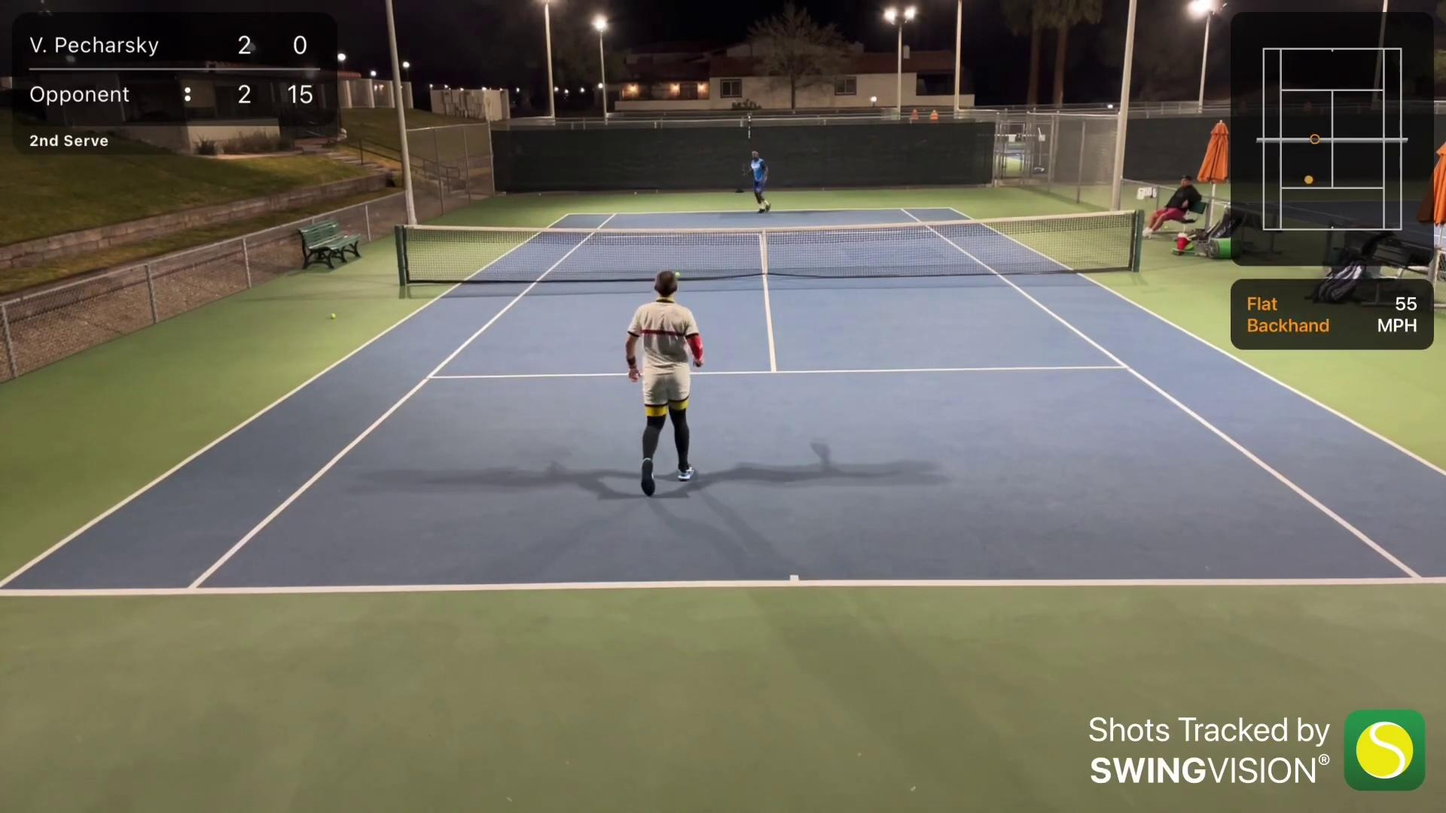ball: (326, 311, 340, 321), (672, 270, 681, 278)
